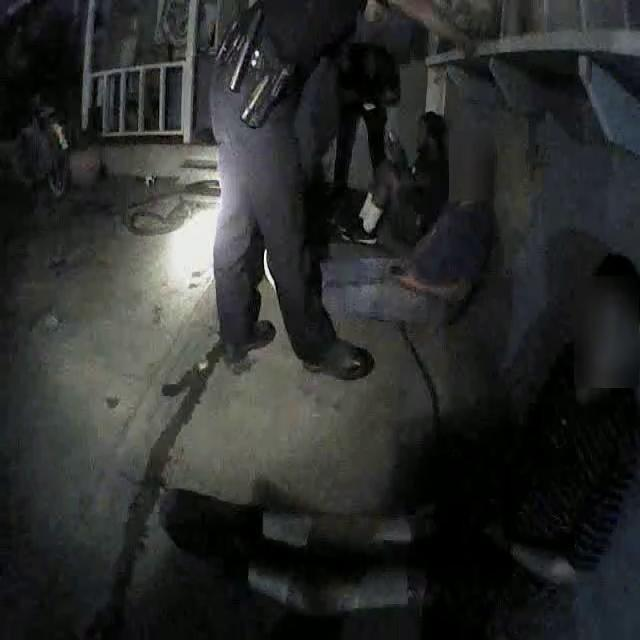gun: (229, 27, 309, 134)
